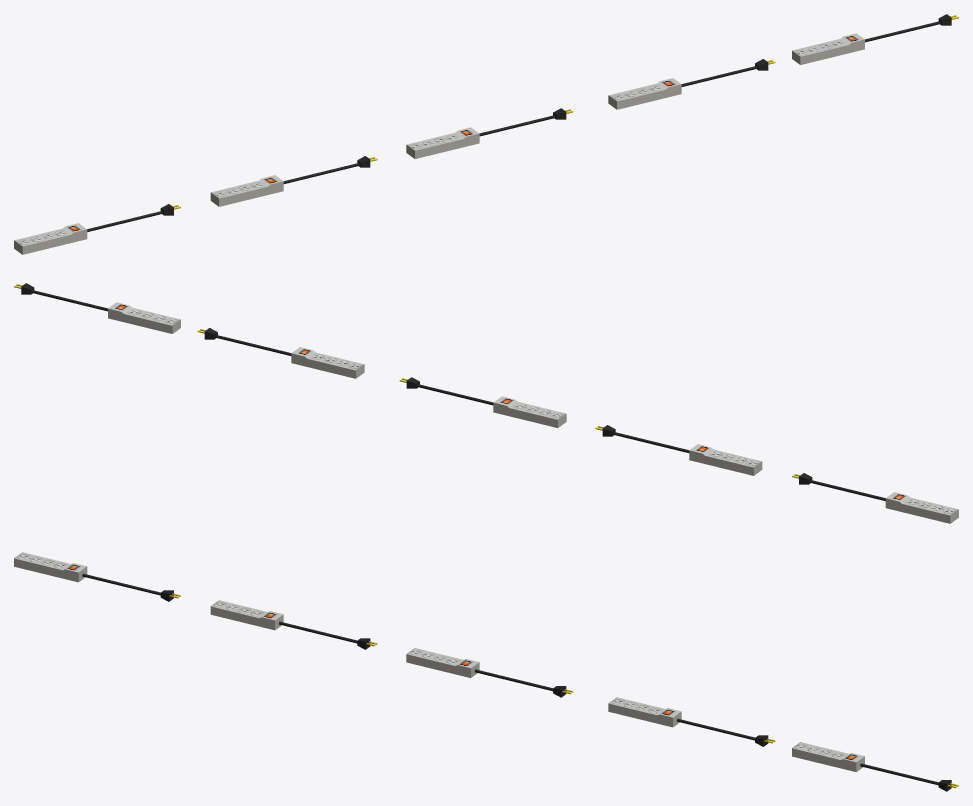
The model's file is Bundle_Power_Strips.fbx.
The picture shows the model from 3 angles, top to bottom: view 1: azimuth 30°, elevation 25°; view 2: azimuth 150°, elevation 25°; view 3: azimuth 330°, elevation 25°; orthographic projection.
Parts seen in each view (by area): view 1: Bundle_Power_Strip_1; view 2: Bundle_Power_Strip_1; view 3: Bundle_Power_Strip_1.
Boxes of the visible parts, <box> form: Bundle_Power_Strip_1: <box>14,14,958,254</box>; Bundle_Power_Strip_1: <box>14,283,958,523</box>; Bundle_Power_Strip_1: <box>14,552,958,791</box>.
Size of the model in its own units: 445 by 4.46 by 7.04.
